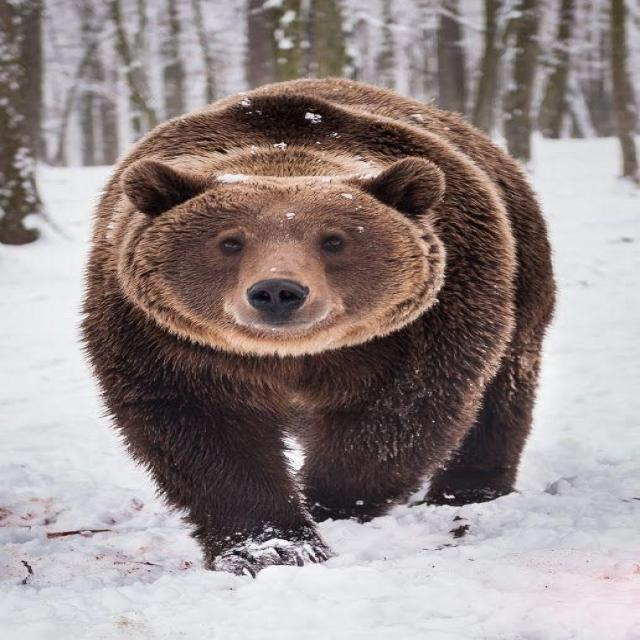Bear: (79, 78, 557, 579)
